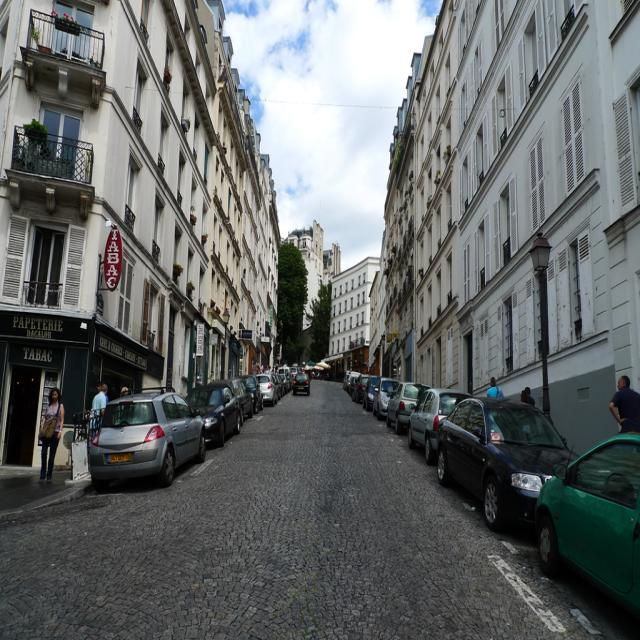car: (90, 386, 206, 479)
